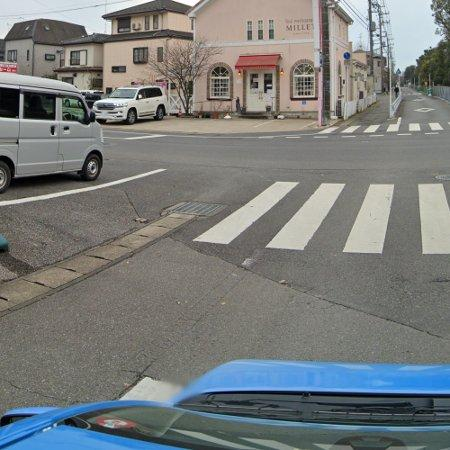crosswalks: (188, 180, 450, 254)
